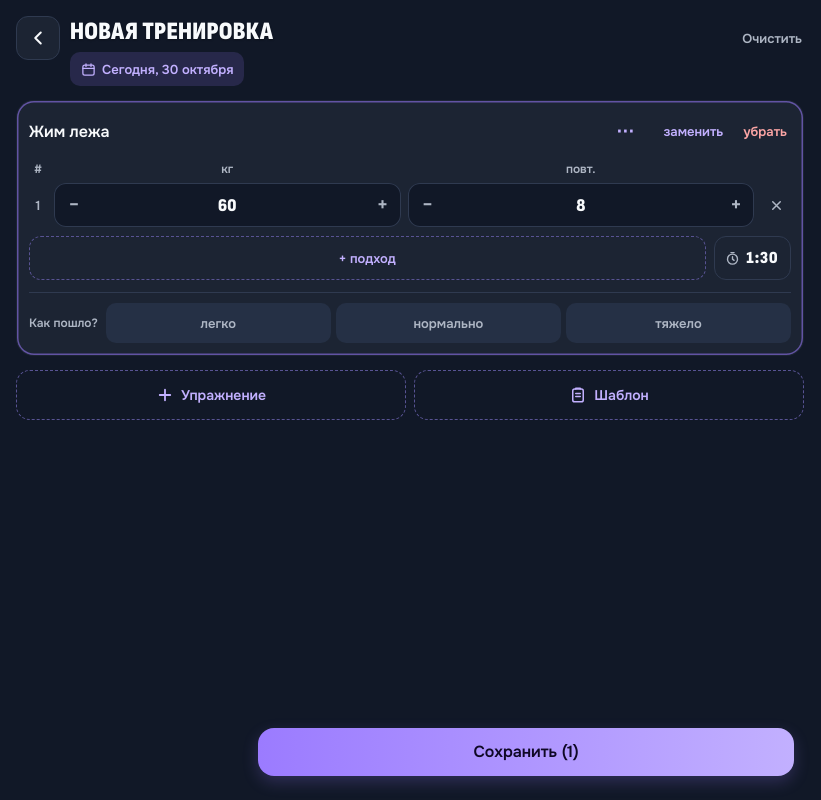
Scenario: WorkoutScreen — добавление › пачка: новые добавлены (сбой истории — подход по умолчанию), уже стоящие — «Уже были: 1»
Click the button with aria-label "Добавить упражнение" at [211, 395], box top-left (16, 370), bottom-right (406, 420)
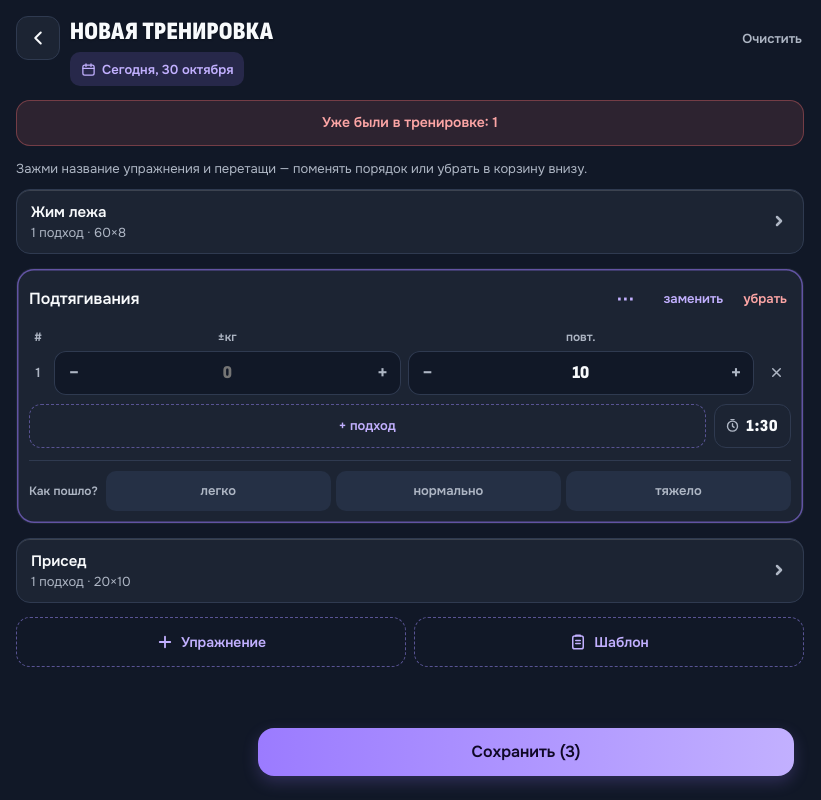
Expected: the text "Уже были в тренировке: 1" is shown, top-left (16, 100), bottom-right (804, 146)
